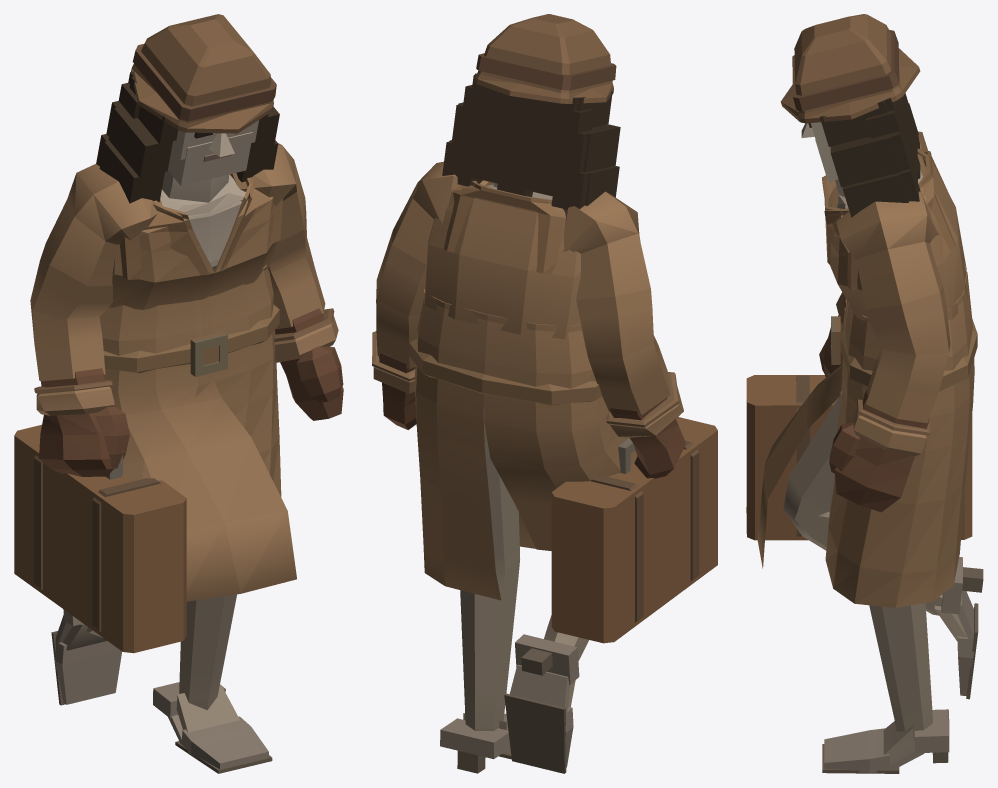
The model's file is passenger-ac425a__walk2.glb.
The picture shows the model from 3 angles, left to right: view 1: azimuth 30°, elevation 25°; view 2: azimuth 150°, elevation 25°; view 3: azimuth 270°, elevation 25°; orthographic projection. The views are drawn at different scales.
Parts seen in each view (by area): view 1: passenger-ac425a__walk2; view 2: passenger-ac425a__walk2; view 3: passenger-ac425a__walk2.
Part boxes in pixels (box(x1,y1,x2,y2)): passenger-ac425a__walk2: box(14, 14, 343, 773); passenger-ac425a__walk2: box(372, 14, 717, 773); passenger-ac425a__walk2: box(746, 14, 983, 773).
Bounding box in the file's own units: 0.7692 × 1.77 × 0.5253.
